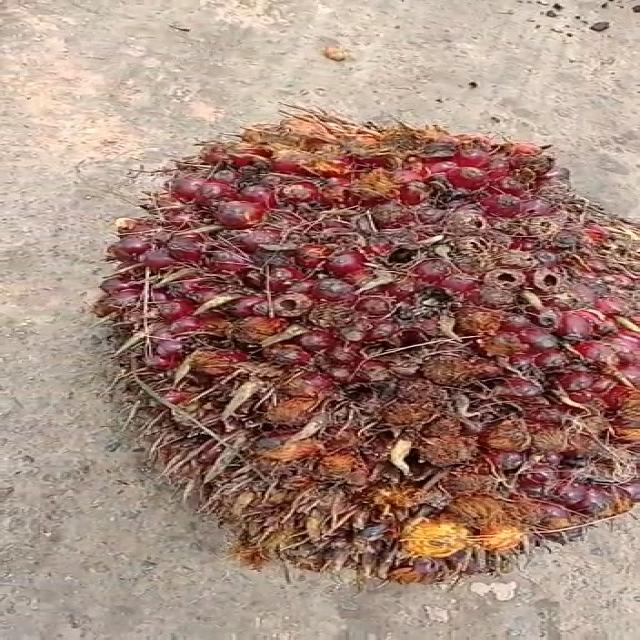palm oil: (106, 112, 640, 591)
